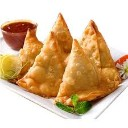samosa: (22, 13, 78, 95), (57, 39, 111, 101), (82, 20, 123, 82), (21, 28, 47, 72)
